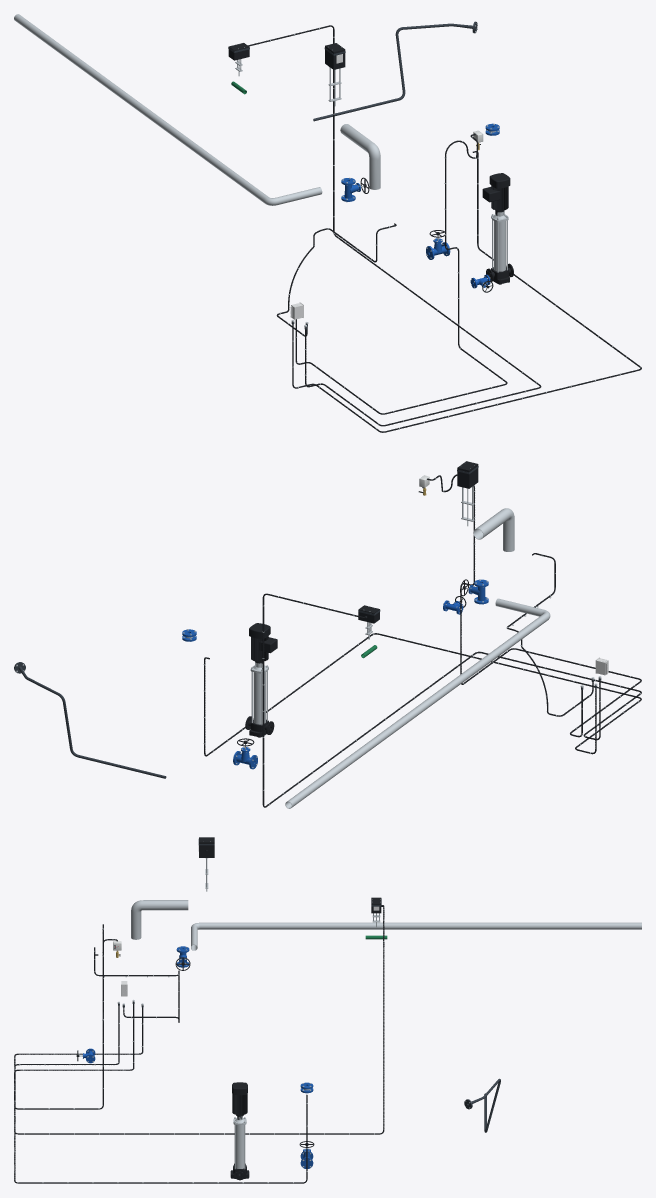
3 views of the same model, one above another, from view 1: azimuth 30°, elevation 25°; view 2: azimuth 150°, elevation 25°; view 3: azimuth 270°, elevation 25° (orthographic). The views are drawn at different scales.
Parts seen in each view (by area): view 1: safety_vent_1 / steel, mod_direct_drive_cable / black, wiring_pump_2 / black, wiring_pressure_transmitter / black, steam_rise / steel, tds_without_fv / dark, pump_1 CAD solid 15, pump_1 CAD solid 2; view 2: safety_vent_1 / steel, mod_direct_drive_cable / black, wiring_pump_2 / black, wiring_pressure_transmitter / black, steam_rise / steel, tds_without_fv / dark, pump_1 CAD solid 15, pump_1 CAD solid 2, wiring_low_level_2 / black, gpz_drive / black; view 3: safety_vent_1 / steel, mod_direct_drive_cable / black, wiring_pump_2 / black, wiring_pressure_transmitter / black, steam_rise / steel, pump_1 CAD solid 15.
Part boxes in pixels (left/top/right/bottom): safety_vent_1 / steel: left=14, top=14, right=322, bottom=205; mod_direct_drive_cable / black: left=248, top=25, right=541, bottom=426; wiring_pump_2 / black: left=292, top=151, right=641, bottom=432; wiring_pressure_transmitter / black: left=295, top=133, right=507, bottom=414; steam_rise / steel: left=340, top=124, right=380, bottom=189; tds_without_fv / dark: left=313, top=21, right=477, bottom=121; pump_1 CAD solid 15: left=482, top=173, right=510, bottom=211; pump_1 CAD solid 2: left=494, top=221, right=505, bottom=271; safety_vent_1 / steel: left=285, top=598, right=550, bottom=808; mod_direct_drive_cable / black: left=262, top=593, right=641, bottom=807; wiring_pump_2 / black: left=204, top=633, right=641, bottom=756; wiring_pressure_transmitter / black: left=427, top=474, right=641, bottom=737; steam_rise / steel: left=473, top=508, right=514, bottom=551; tds_without_fv / dark: left=14, top=662, right=166, bottom=778; pump_1 CAD solid 15: left=249, top=623, right=277, bottom=662; pump_1 CAD solid 2: left=253, top=672, right=265, bottom=724; wiring_low_level_2 / black: left=507, top=553, right=593, bottom=716; gpz_drive / black: left=457, top=461, right=478, bottom=488; safety_vent_1 / steel: left=191, top=922, right=641, bottom=950; mod_direct_drive_cable / black: left=14, top=905, right=384, bottom=1134; wiring_pump_2 / black: left=14, top=1004, right=307, bottom=1183; wiring_pressure_transmitter / black: left=14, top=924, right=143, bottom=1109; steam_rise / steel: left=131, top=900, right=188, bottom=939; pump_1 CAD solid 15: left=232, top=1082, right=247, bottom=1115.
Size of the model in its own units: 4.37 by 3.19 by 7.03.
